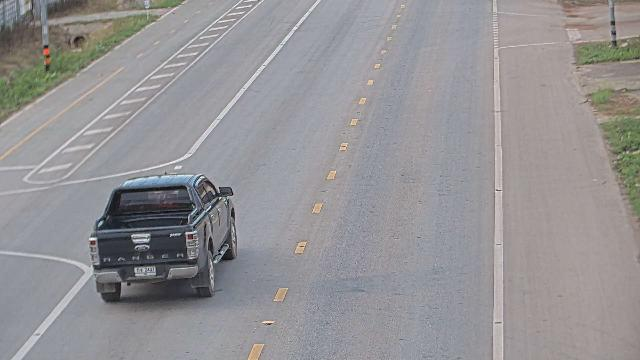pickup-truck: (87, 172, 238, 302)
